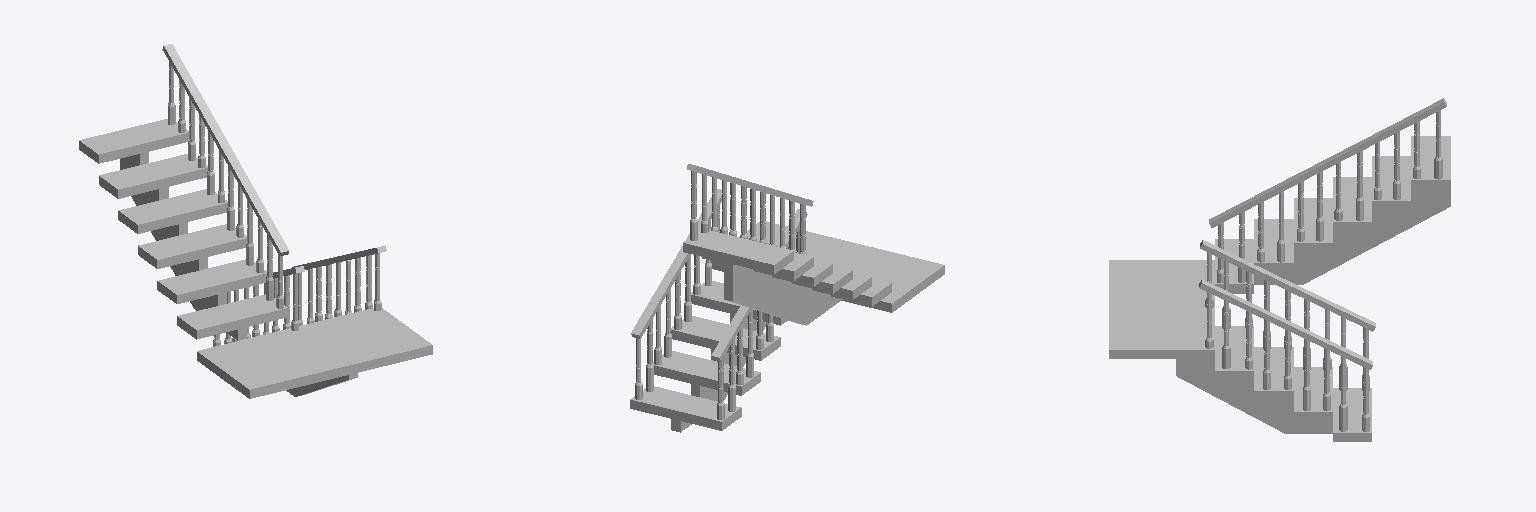
The model's file is stair.obj.
3 renders of one model, left to right at view 1: azimuth 30°, elevation 25°; view 2: azimuth 150°, elevation 25°; view 3: azimuth 270°, elevation 25°, orthographic.
Parts seen in each view (by area): view 1: Stair, Box004, Box001; view 2: Stair, Box001, Box002, Box004; view 3: Stair, Box004, Box002, Box001.
Boxes of the visible parts, <box> form: Stair: <box>79,119,432,398</box>; Box004: <box>162,44,288,255</box>; Box001: <box>292,245,386,269</box>; Stair: <box>630,221,944,432</box>; Box001: <box>631,189,721,338</box>; Box002: <box>711,209,807,360</box>; Box004: <box>687,164,813,206</box>; Stair: <box>1109,136,1450,441</box>; Box004: <box>1209,98,1446,227</box>; Box002: <box>1200,240,1375,331</box>; Box001: <box>1199,279,1372,369</box>.
Size of the model in its own units: 60.08 by 95.7 by 96.8.